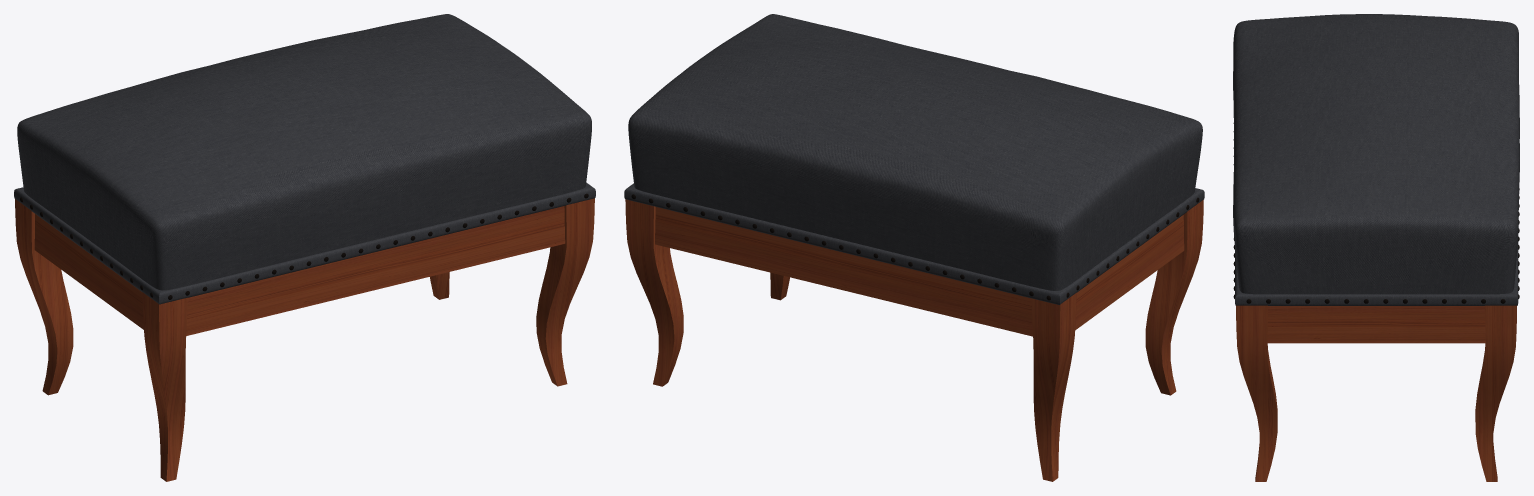
Rendered from Bench_001.FBX.fbx.
3 views of the same model, side by side, from view 1: azimuth 30°, elevation 25°; view 2: azimuth 150°, elevation 25°; view 3: azimuth 270°, elevation 25° (orthographic). The views are drawn at different scales.
Parts seen in each view (by area): view 1: Bench_001; view 2: Bench_001; view 3: Bench_001.
Part boxes in pixels (x1,y1,x2,y2): Bench_001: [14, 14, 595, 481]; Bench_001: [624, 14, 1204, 481]; Bench_001: [1233, 14, 1519, 481].
Bounding box in the file's own units: 61.6 × 40.15 × 35.62.
3 materials, 2 textured.
